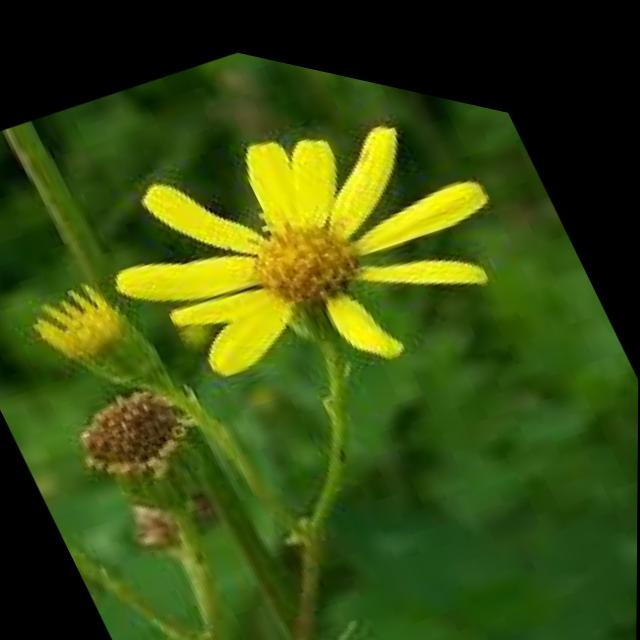Flower: (67, 12, 534, 455)
